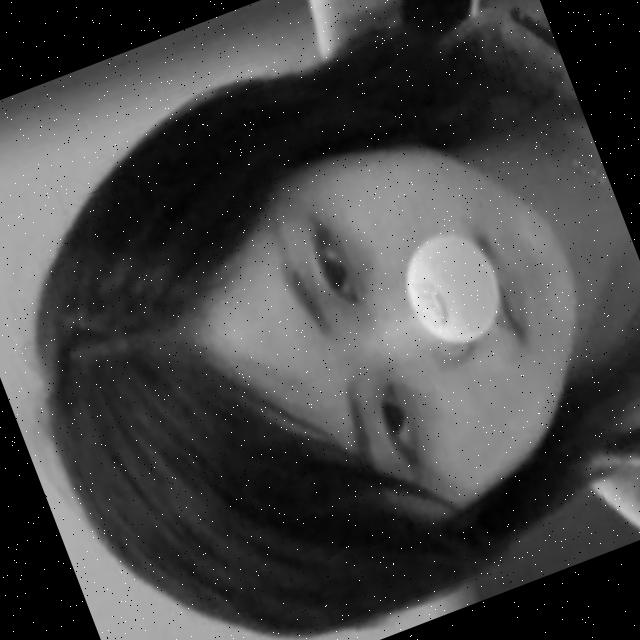ping-pong-ball: (390, 220, 514, 357)
